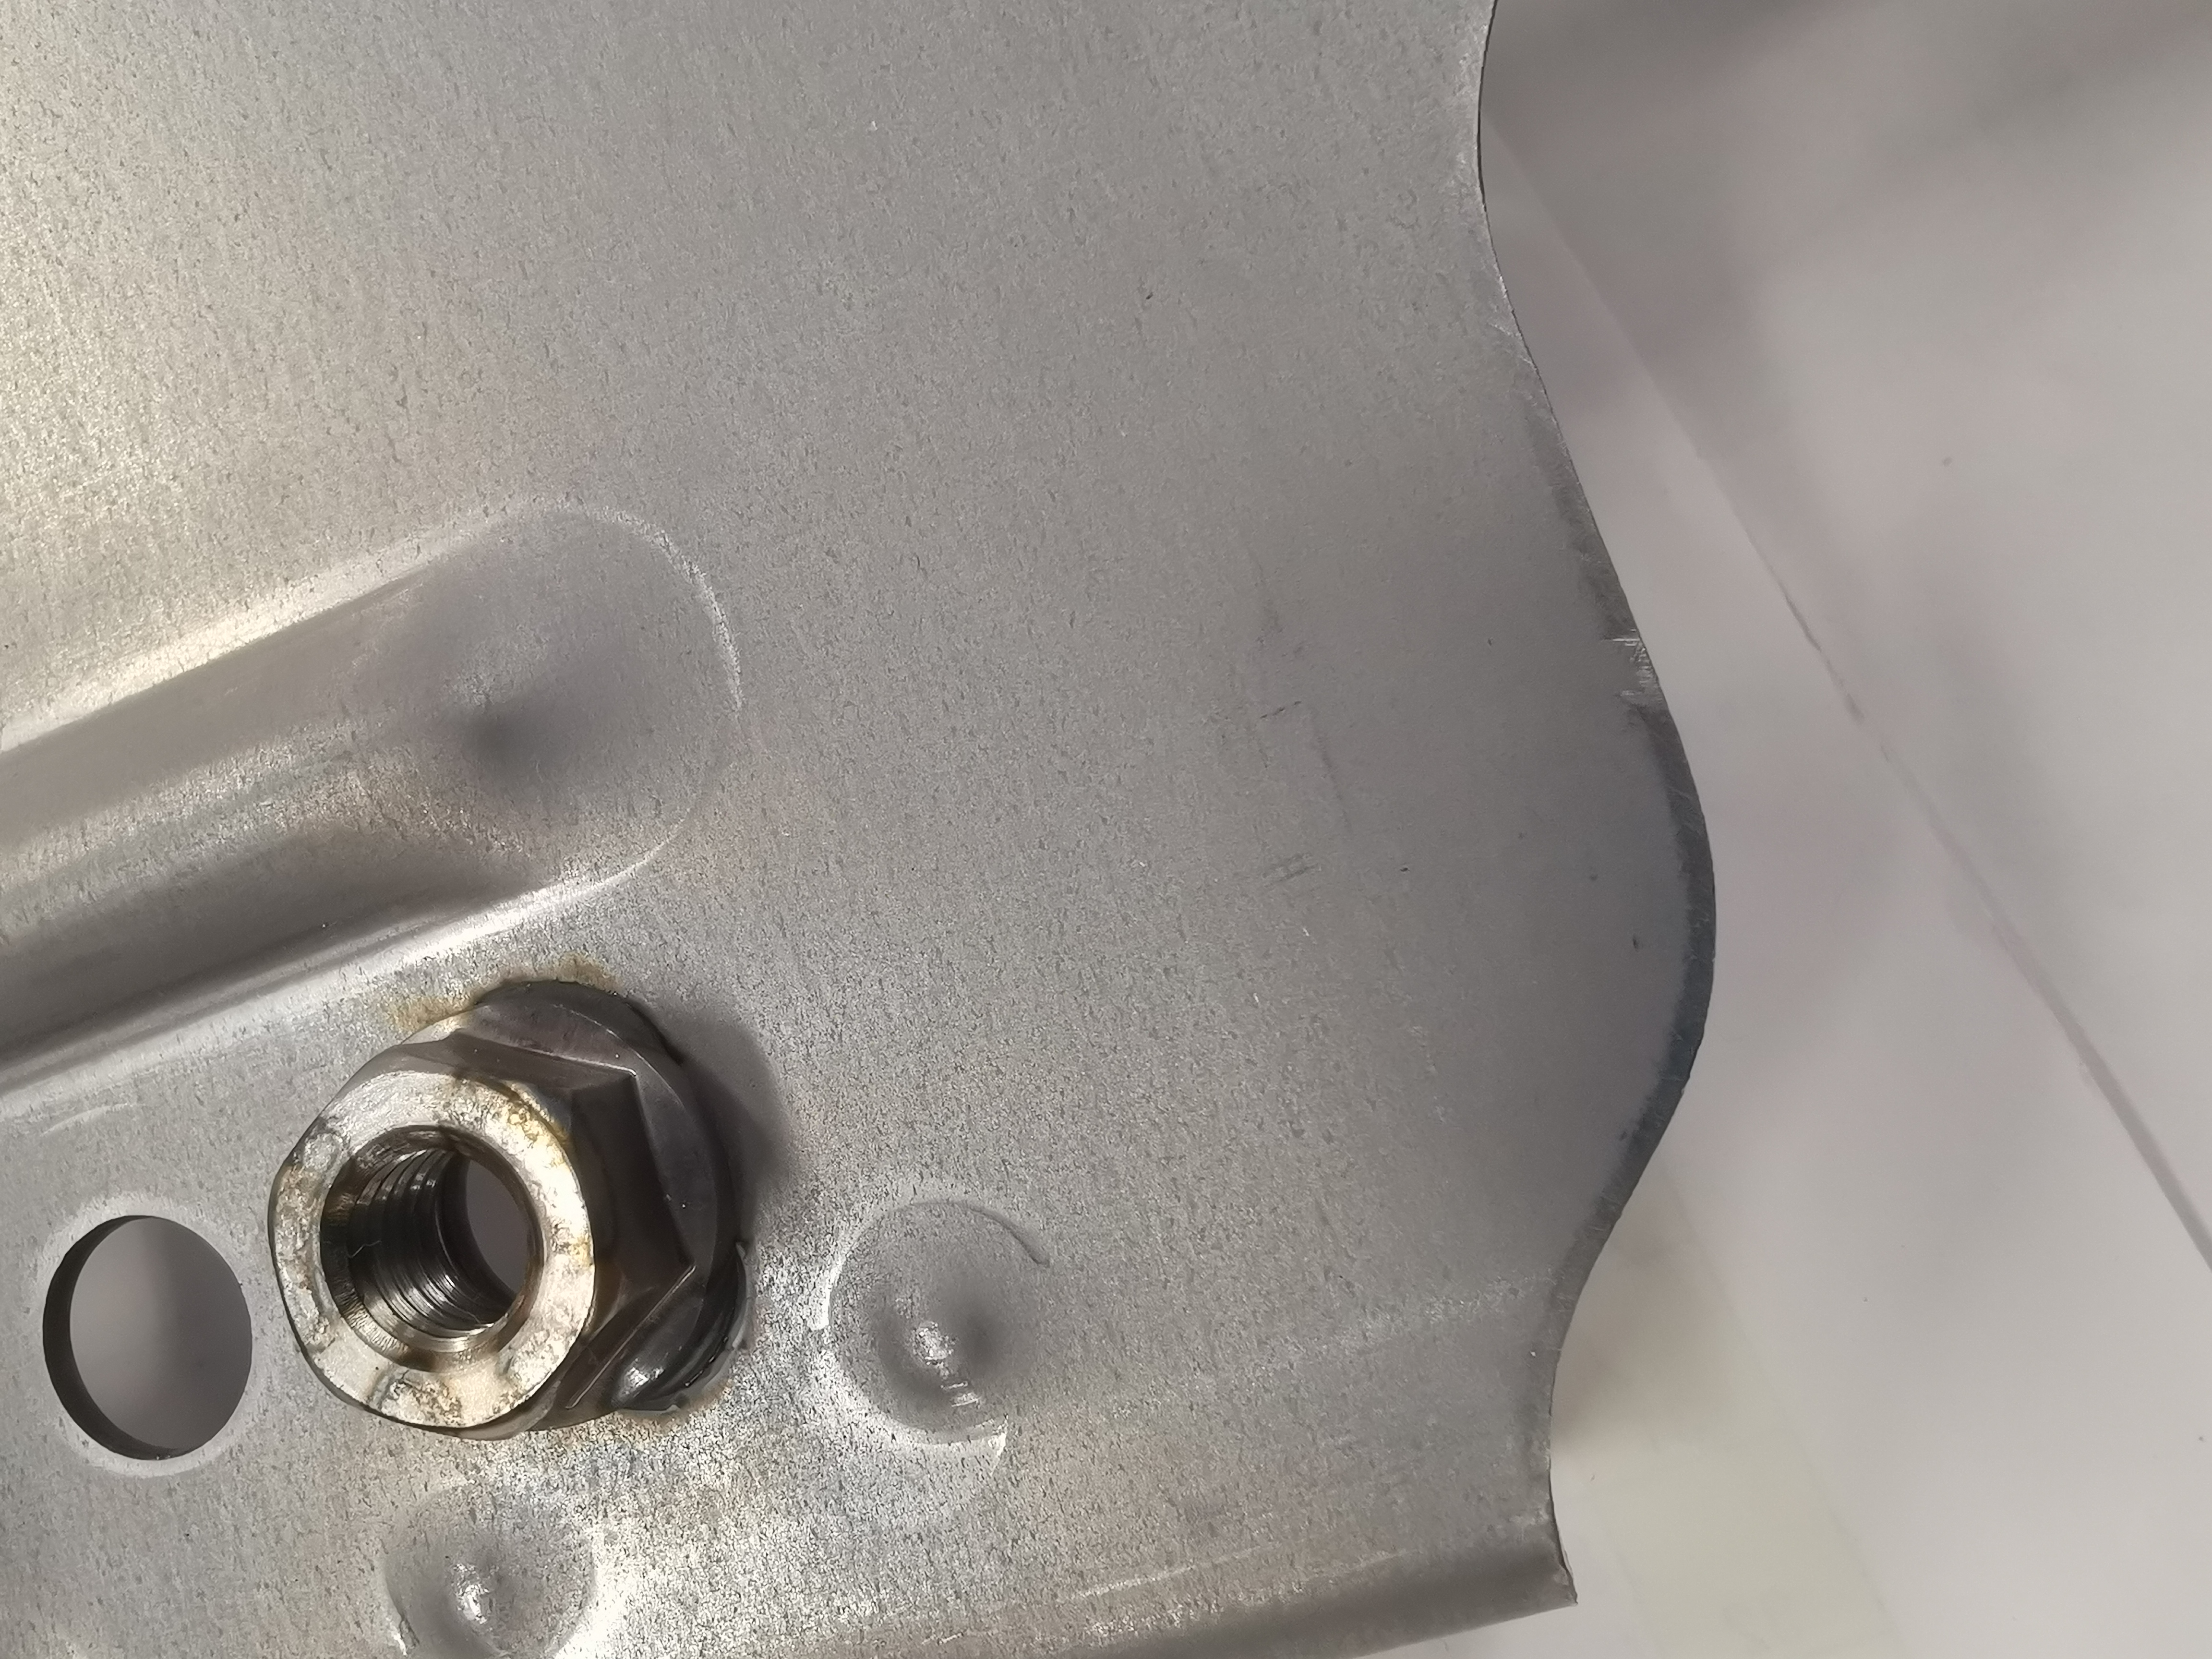dog: (256, 972, 758, 1446)
